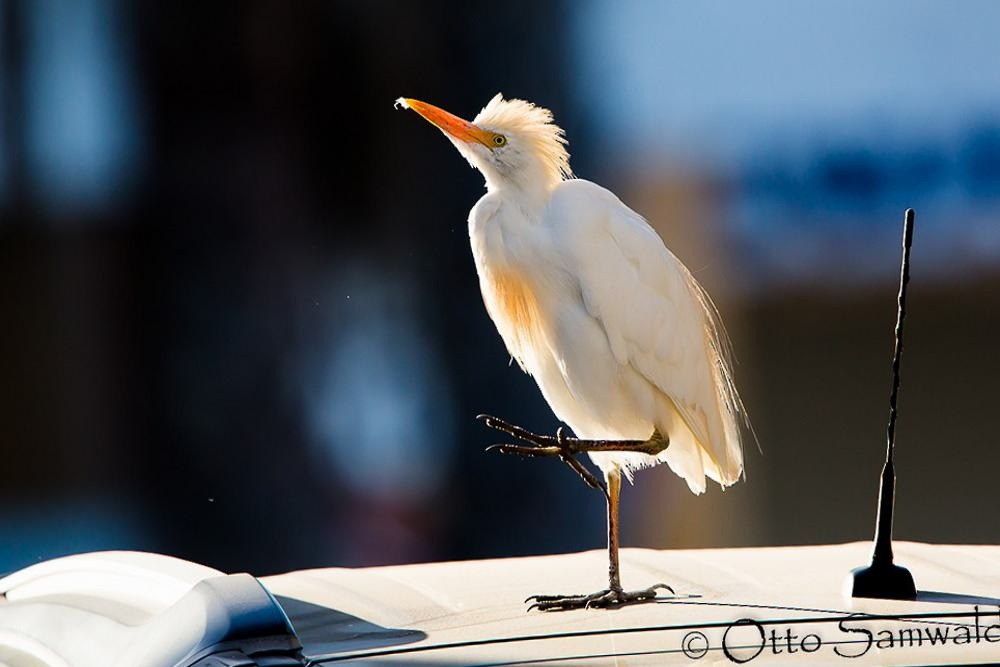egret: (382, 72, 755, 595)
